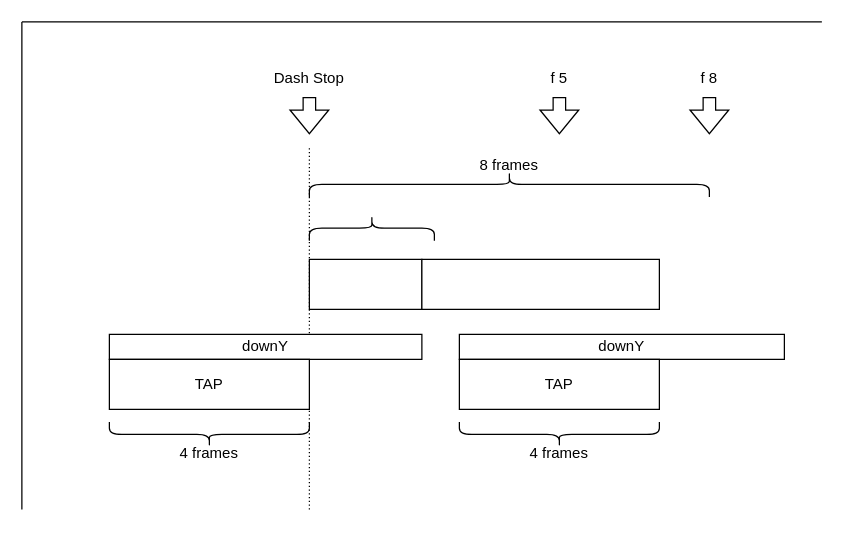
This 845x533 diagram has some shape labels left out. Each missing label, with the centre of its shape:
< 5 frames: (371,227)
EXTEND: (540,283)
FORCE_FTILT: (365,283)
